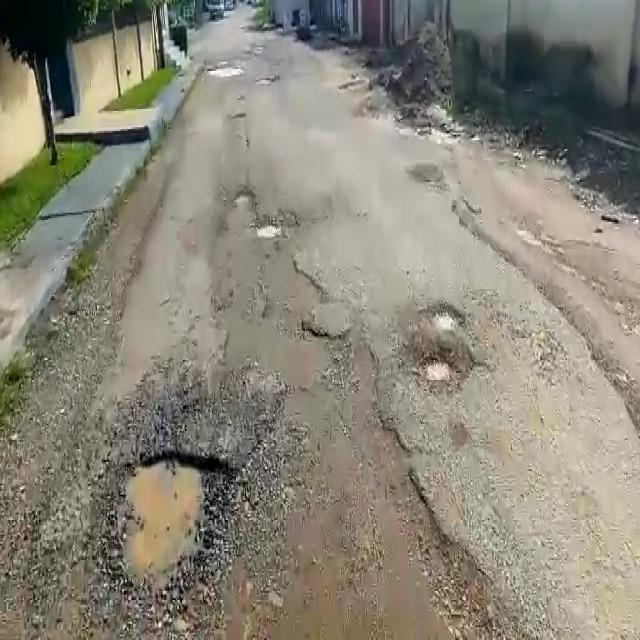Pothole: (113, 450, 231, 600), (418, 344, 460, 401), (424, 302, 464, 334), (256, 219, 285, 240), (232, 190, 255, 206)
